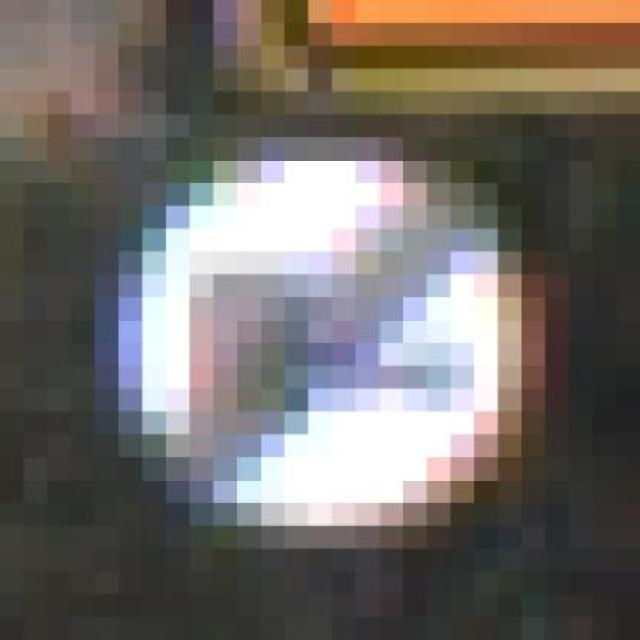Overtaking by trucks is prohibited: (71, 115, 569, 594)
